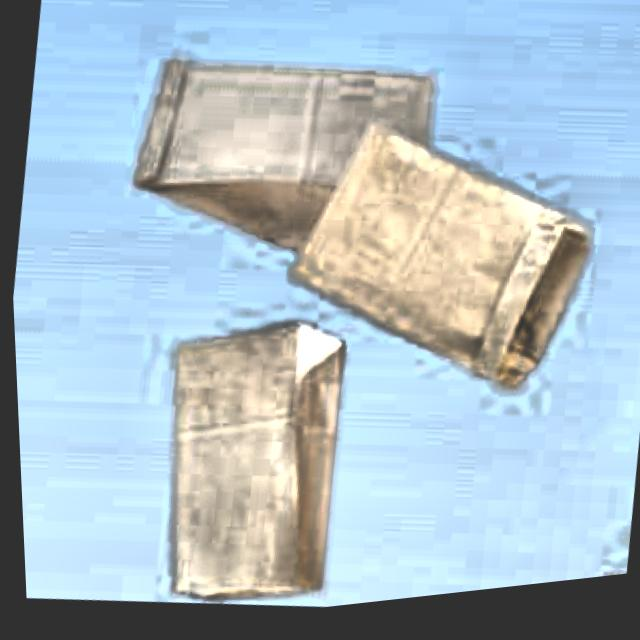Paper-bag: (242, 89, 619, 443), (106, 0, 476, 342), (127, 301, 363, 630)
